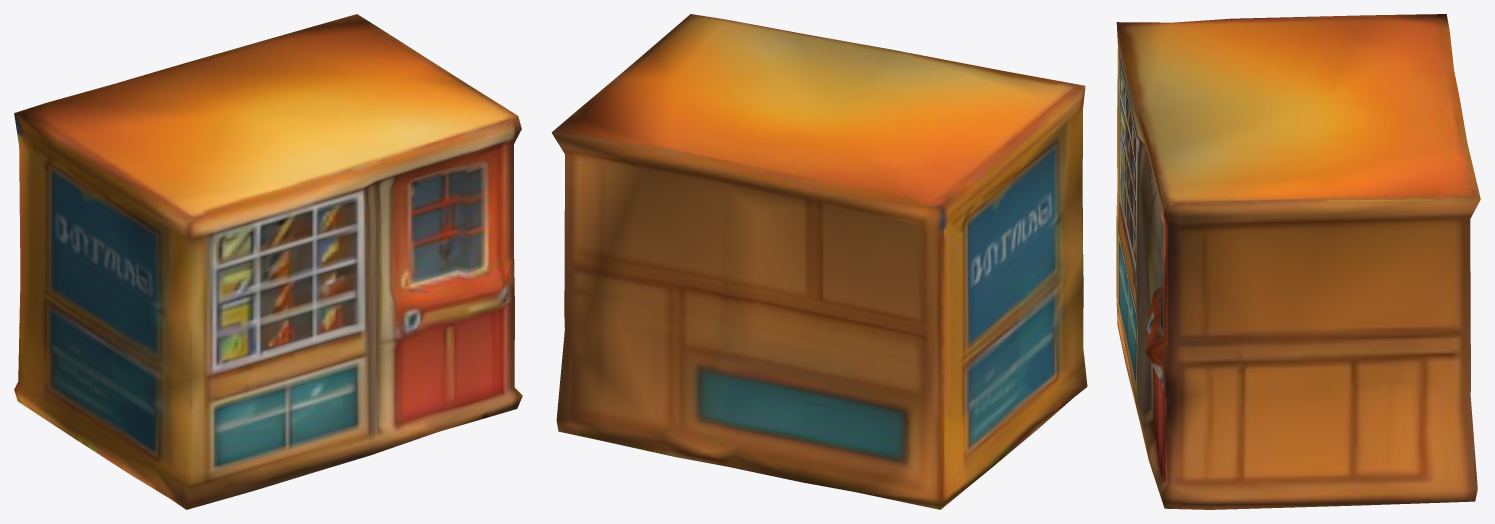
File: shop big.fbx
3 renders of one model, left to right at view 1: azimuth 30°, elevation 25°; view 2: azimuth 150°, elevation 25°; view 3: azimuth 270°, elevation 25°, orthographic. The views are drawn at different scales.
Visible parts, largest first — view 1: Mesh_0.012; view 2: Mesh_0.012; view 3: Mesh_0.012.
Boxes of the visible parts, bbox=[...] form: Mesh_0.012: bbox=[14, 14, 522, 509]; Mesh_0.012: bbox=[551, 14, 1087, 509]; Mesh_0.012: bbox=[1116, 14, 1480, 509].
Size of the model in its own units: 168 by 125 by 134.
